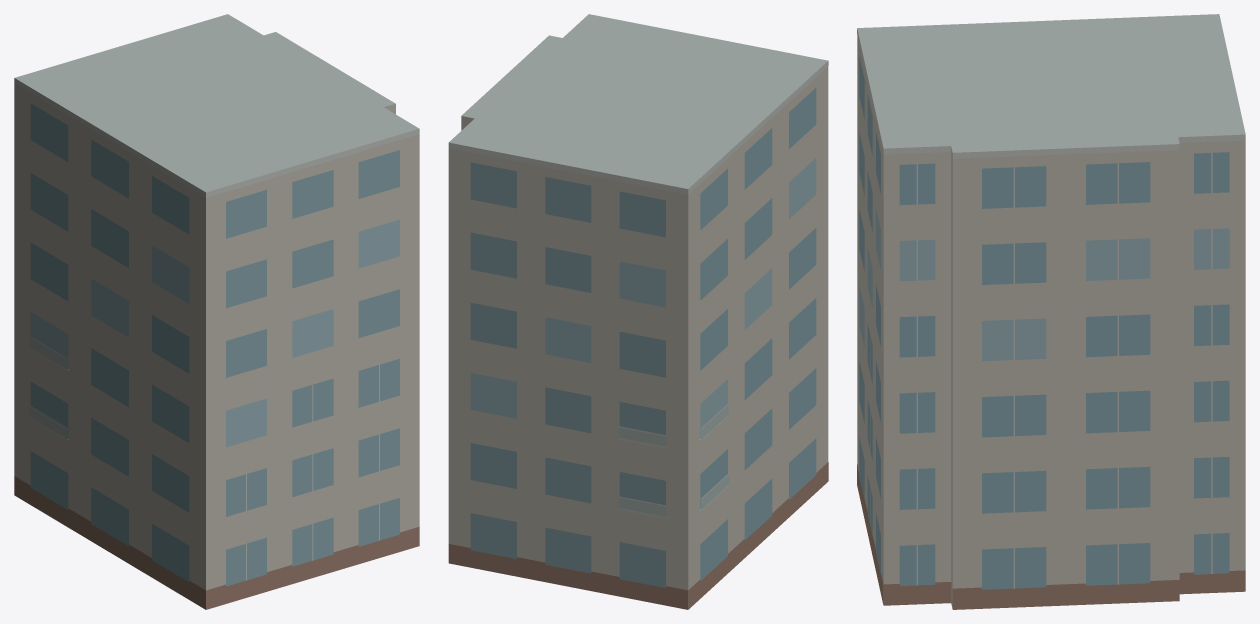
The model's file is survey-upis-32665350.glb.
The picture shows the model from 3 angles, left to right: view 1: azimuth 30°, elevation 25°; view 2: azimuth 150°, elevation 25°; view 3: azimuth 270°, elevation 25°; orthographic projection. The views are drawn at different scales.
Parts seen in each view (by area): view 1: survey-upis-32665350.tmp; view 2: survey-upis-32665350.tmp; view 3: survey-upis-32665350.tmp.
Boxes of the visible parts, <box> form: survey-upis-32665350.tmp: <box>14,14,419,609</box>; survey-upis-32665350.tmp: <box>448,14,828,609</box>; survey-upis-32665350.tmp: <box>857,14,1245,609</box>.
Bounding box in the file's own units: 12.12 × 18.6 × 14.34.
